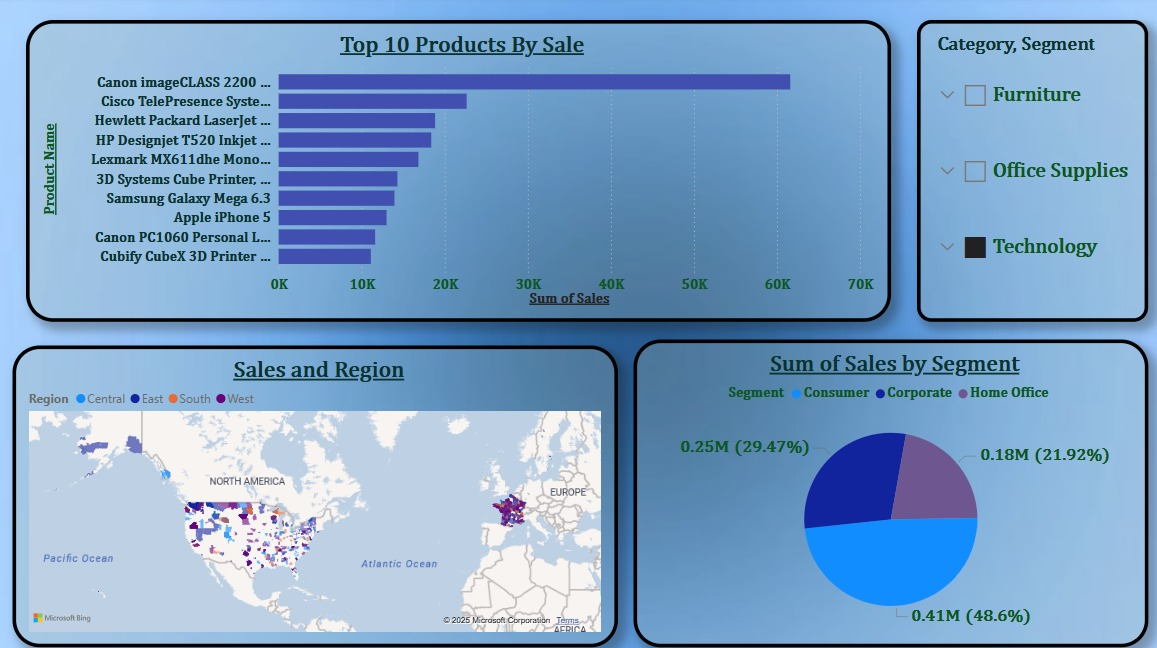

The page's visual inventory and layout, read from the dashboard file:
{"tool":"powerbi","page":{"name":"Deep Dive","canvas":[1280,720],"ordinal":1},"visuals":[{"type":"pieChart","fields":{"Category":["Orders.Segment"],"Y":["Sum(Orders.Sales)"]},"box":[700,380,568.3,340],"z":1000},{"type":"clusteredBarChart","title":"Top 10 Products By Sale","fields":{"Y":["Sum(Orders.Sales)"],"Category":["Orders.Product Name"]},"box":[30,26.7,955,333.3],"z":2000},{"type":"slicer","fields":{"Values":["Orders.Category","Orders.Segment"]},"box":[1013.3,26.7,255,333.3],"z":3000},{"type":"filledMap","fields":{"Category":["Orders.Sales"],"Series":["Orders.Region"]},"box":[15,386.7,668.3,333.3],"z":4001}]}

Visuals, with their boxes in screenshot pixels (x1, y1, x2, y2), scaled from the page's 1280x720 canvas onto the 1157x648 screenshot:
pieChart - Orders.Segment x Sum(Orders.Sales): <bbox>633, 342, 1146, 647</bbox>
"Top 10 Products By Sale" clusteredBarChart: <bbox>27, 24, 890, 324</bbox>
slicer - Orders.Category x Orders.Segment: <bbox>916, 24, 1146, 324</bbox>
filledMap - Orders.Sales x Orders.Region: <bbox>14, 348, 618, 647</bbox>
